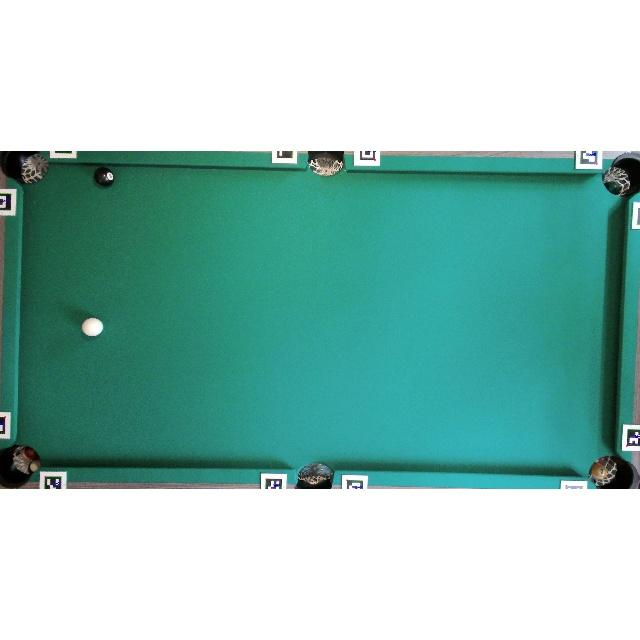cue ball: (80, 316, 104, 338)
other: (93, 164, 116, 187)
